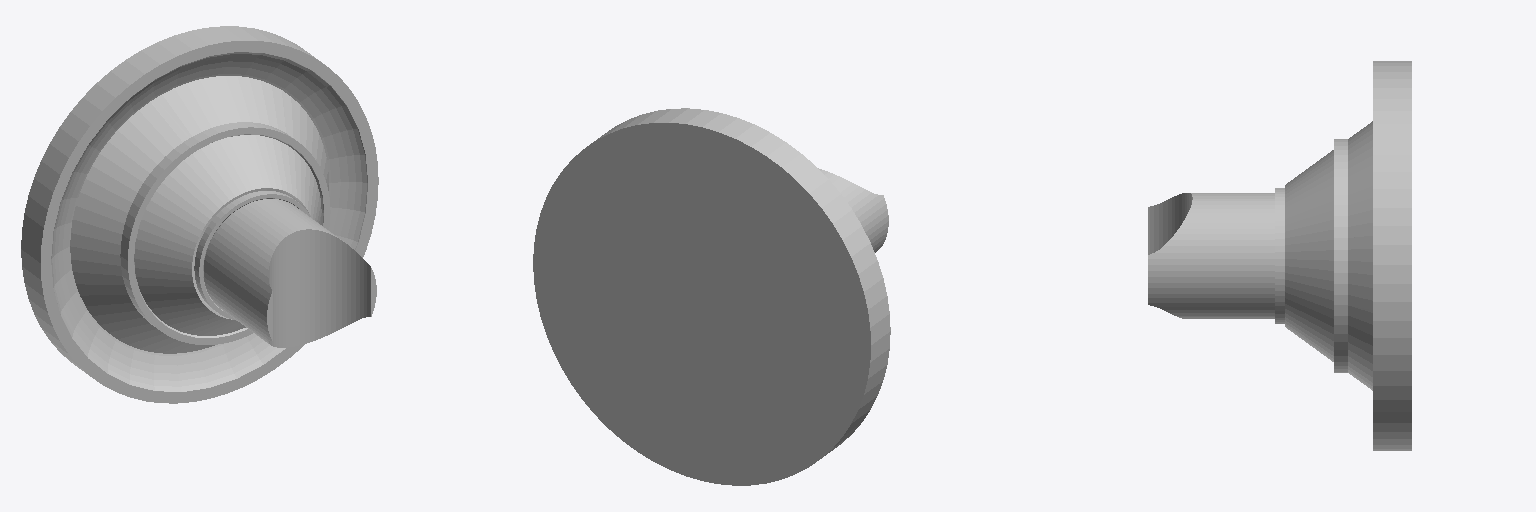
The model's file is tinker - Copy.obj.
The picture shows the model from 3 angles: view 1: azimuth 30°, elevation 25°; view 2: azimuth 150°, elevation 25°; view 3: azimuth 270°, elevation 25°; orthographic projection.
Visible parts, largest first — view 1: obj_0; view 2: obj_0; view 3: obj_0.
Part boxes in pixels (left/top/right/bottom): obj_0: left=21, top=26, right=378, bottom=403; obj_0: left=533, top=108, right=890, bottom=485; obj_0: left=1148, top=61, right=1411, bottom=450.
Bounding box in the file's own units: 40 × 40 × 27.